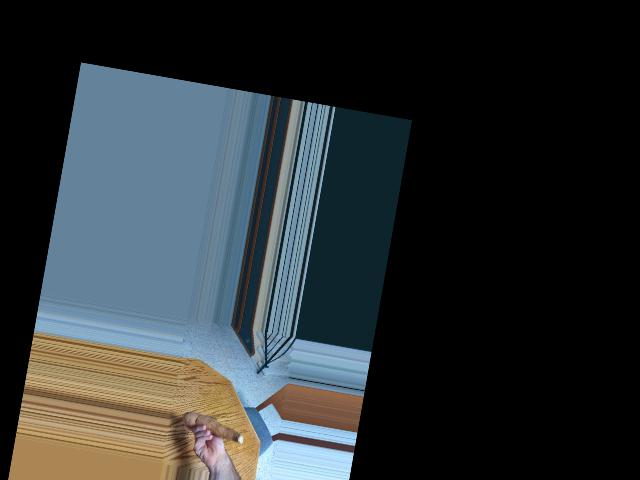sweet_potato: (182, 408, 244, 446)
